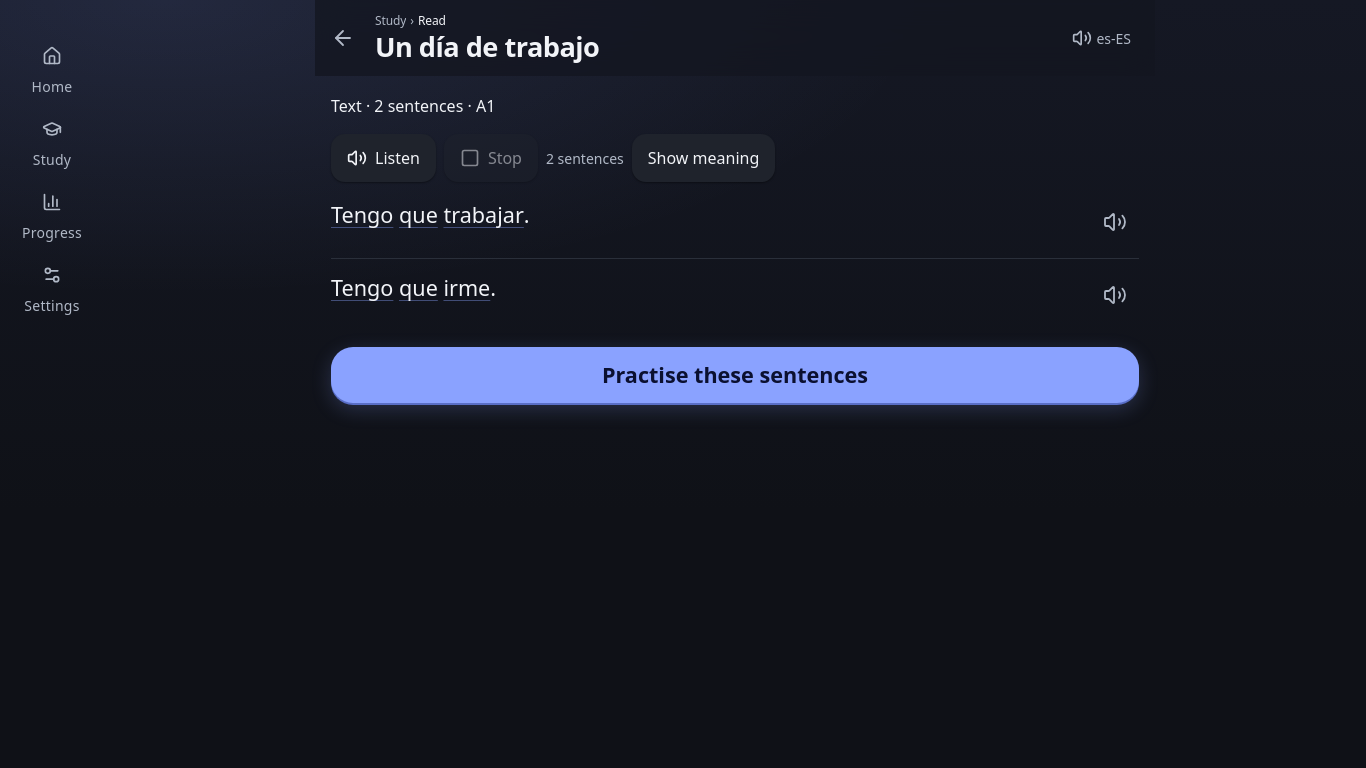
Test case: a passage › leaves every word inspectable, because the sentences are ordinary items
Click the button with aria-label "About “Tengo” in “Tengo que trabajar.”" at {"x": 362, "y": 215}, box [331,198,393,232]
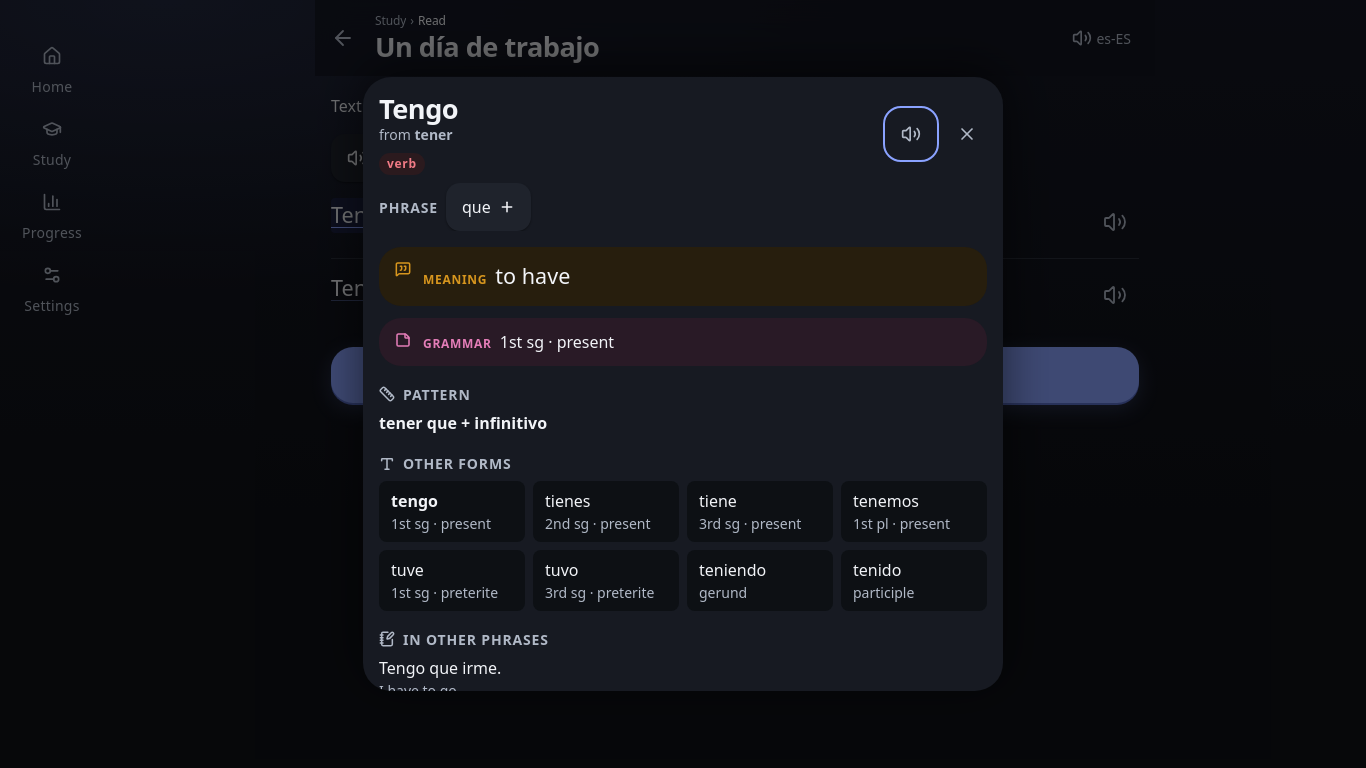
Now the text "to have" is shown, box [495,261,570,290]
